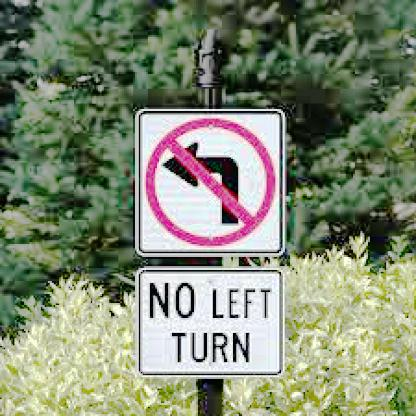No left turn: (134, 109, 275, 249)
